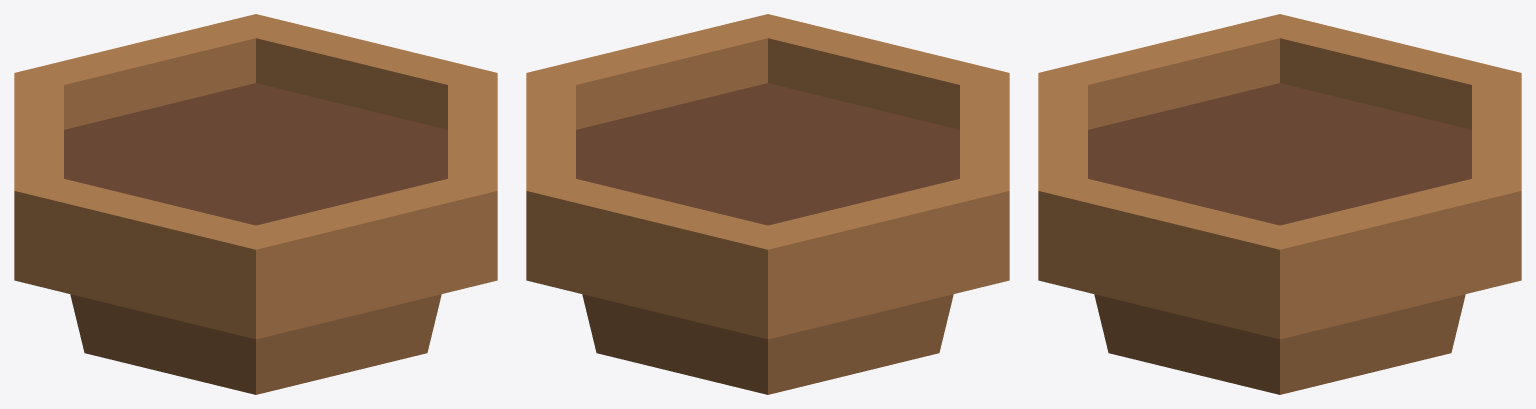
Rendered from pot.glb.
3 views of the same model, side by side, from view 1: azimuth 30°, elevation 25°; view 2: azimuth 150°, elevation 25°; view 3: azimuth 270°, elevation 25° (orthographic).
Visible parts, largest first — view 1: pot_large; view 2: pot_large; view 3: pot_large.
Boxes of the visible parts, x1,y1,x2,y2 form: pot_large: (14,14,497,394); pot_large: (526,14,1009,394); pot_large: (1038,14,1521,394).
Size of the model in its own units: 0.5636 by 0.2 by 0.4881.
